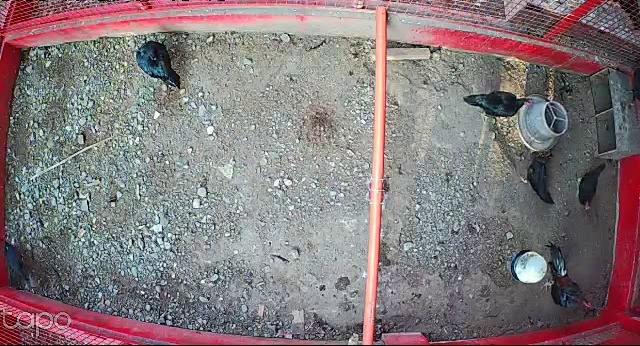Chicken: (132, 39, 183, 90), (0, 235, 43, 294), (459, 90, 538, 121), (517, 149, 556, 206), (574, 159, 607, 213)
Drinker: (509, 248, 549, 284)
Feeder: (516, 92, 572, 153)
Rooster: (539, 240, 597, 314)
